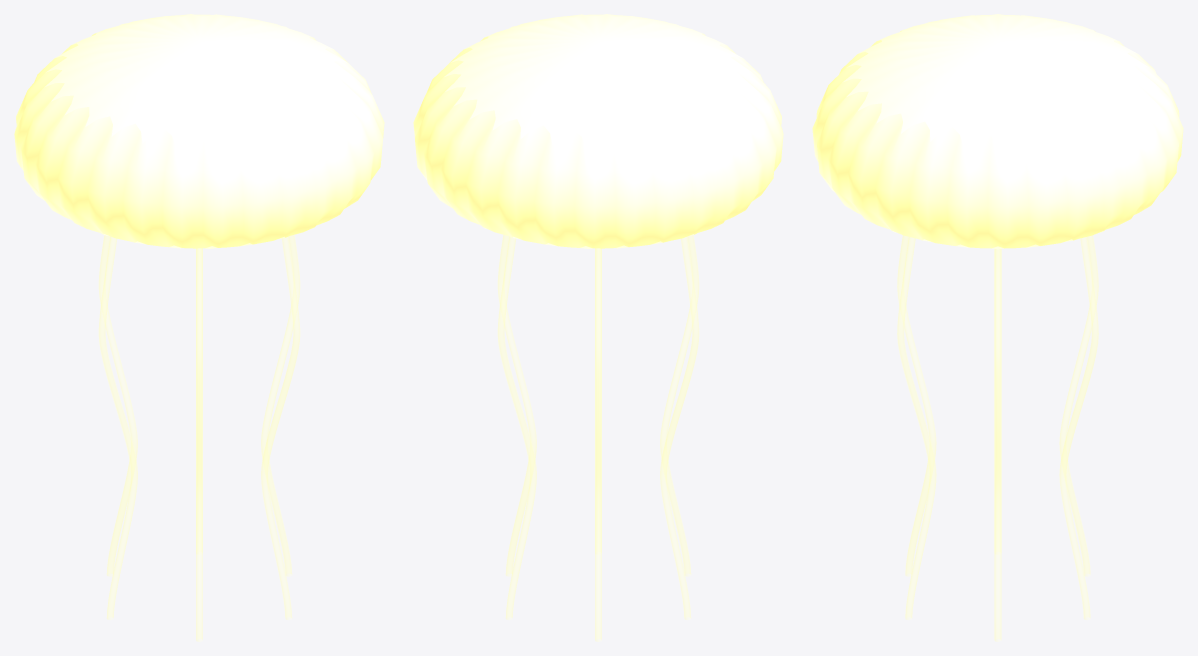
The model's file is jellyfish.glb.
The picture shows the model from 3 angles, left to right: view 1: azimuth 30°, elevation 25°; view 2: azimuth 150°, elevation 25°; view 3: azimuth 270°, elevation 25°; orthographic projection.
Visible parts, largest first — view 1: Jellyfish_Bell, Tentacle_3, Tentacle_5, Tentacle_4, Tentacle_0, Tentacle_2, Tentacle_1; view 2: Jellyfish_Bell, Tentacle_3, Tentacle_1, Tentacle_2, Tentacle_0, Tentacle_4, Tentacle_5; view 3: Jellyfish_Bell, Tentacle_0, Tentacle_1, Tentacle_5, Tentacle_2, Tentacle_4, Tentacle_3.
Part boxes in pixels (left/top/right/bottom): Jellyfish_Bell: left=14, top=14, right=384, bottom=248; Tentacle_3: left=98, top=237, right=137, bottom=619; Tentacle_5: left=261, top=237, right=300, bottom=619; Tentacle_4: left=196, top=248, right=202, bottom=641; Tentacle_0: left=261, top=235, right=300, bottom=576; Tentacle_2: left=98, top=235, right=137, bottom=576; Tentacle_1: left=196, top=248, right=202, bottom=552; Jellyfish_Bell: left=413, top=14, right=783, bottom=248; Tentacle_3: left=660, top=237, right=699, bottom=619; Tentacle_1: left=497, top=237, right=536, bottom=619; Tentacle_2: left=595, top=248, right=601, bottom=641; Tentacle_0: left=497, top=235, right=536, bottom=576; Tentacle_4: left=660, top=235, right=699, bottom=576; Tentacle_5: left=595, top=248, right=601, bottom=552; Jellyfish_Bell: left=812, top=14, right=1183, bottom=249; Tentacle_0: left=994, top=249, right=1001, bottom=641; Tentacle_1: left=1059, top=237, right=1098, bottom=619; Tentacle_5: left=897, top=237, right=936, bottom=619; Tentacle_2: left=1059, top=235, right=1098, bottom=576; Tentacle_4: left=897, top=235, right=936, bottom=576; Tentacle_3: left=994, top=249, right=1001, bottom=552.
Size of the model in its own units: 3.17 by 5.24 by 3.17.
